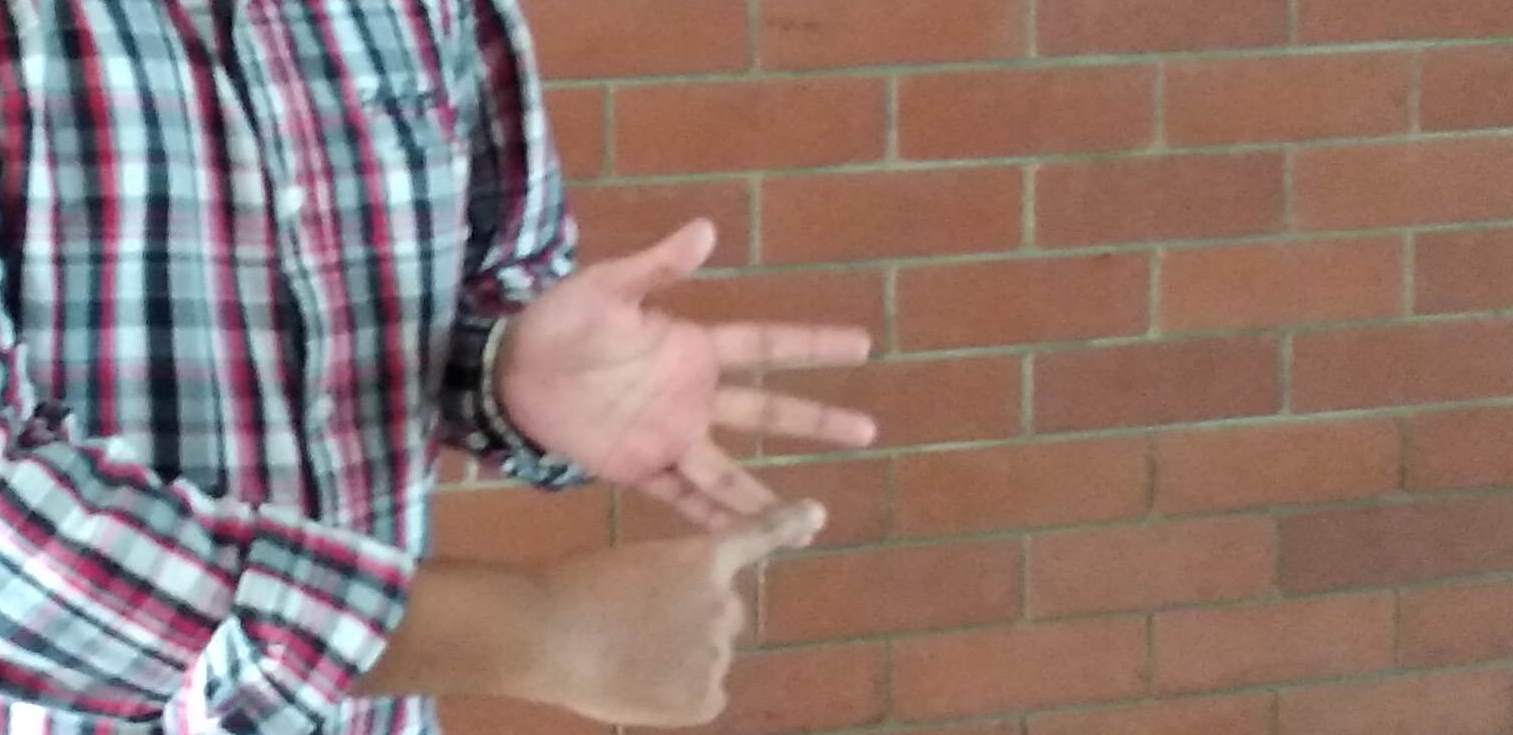e: (525, 276, 879, 671)
